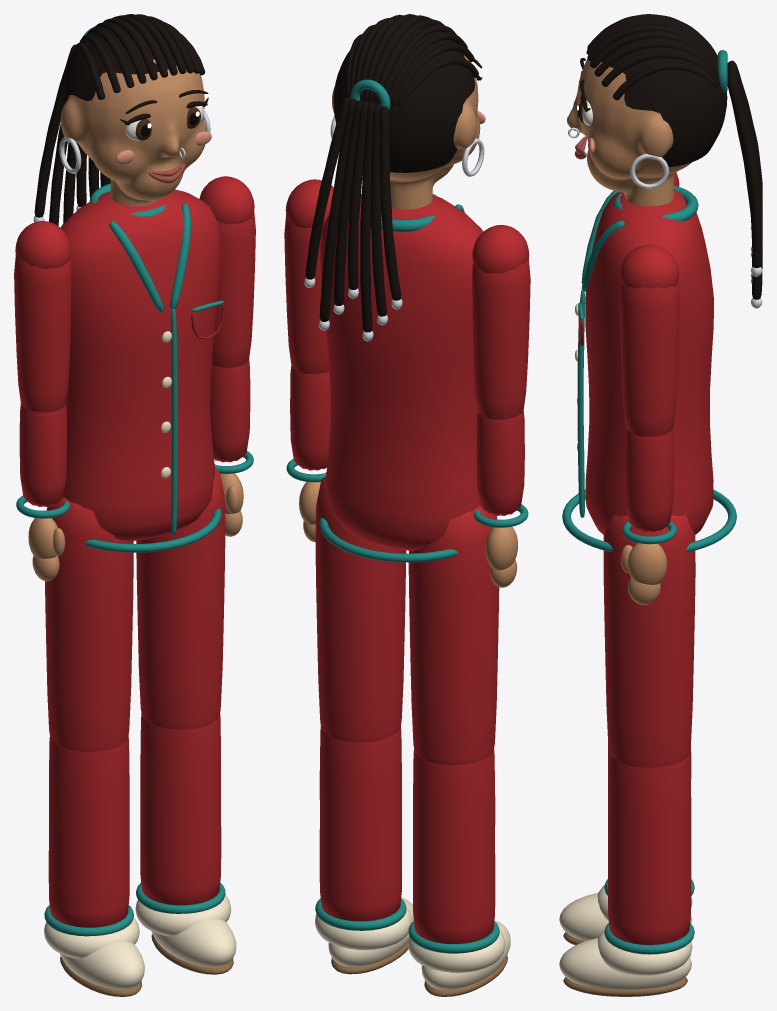
File: mom-B04acgtP.glb
3 views of the same model, side by side, from view 1: azimuth 30°, elevation 25°; view 2: azimuth 150°, elevation 25°; view 3: azimuth 270°, elevation 25° (orthographic).
Visible parts, largest first — view 1: mom_spine_mom_pj_red, mom_leg0_mom_pj_red, mom_leg1_mom_pj_red, mom_knee1_mom_pj_red, mom_knee0_mom_pj_red, mom_head_mom_skin, mom_arm0_mom_pj_red, mom_head_mom_hair, mom_arm1_mom_pj_red, mom_spine_mom_pj_teal, mom_knee1_slipper_cream, mom_knee0_slipper_cream (+11 smaller); view 2: mom_spine_mom_pj_red, mom_leg0_mom_pj_red, mom_leg1_mom_pj_red, mom_knee1_mom_pj_red, mom_knee0_mom_pj_red, mom_head_mom_hair, mom_tail_mom_hair, mom_arm0_mom_pj_red, mom_arm1_mom_pj_red, mom_elbow0_mom_pj_red, mom_elbow1_mom_pj_red, mom_knee0_slipper_cream (+12 smaller); view 3: mom_spine_mom_pj_red, mom_leg1_mom_pj_red, mom_knee1_mom_pj_red, mom_head_mom_hair, mom_arm1_mom_pj_red, mom_head_mom_skin, mom_knee1_slipper_cream, mom_spine_mom_pj_teal, mom_elbow1_mom_pj_red, mom_tail_mom_hair, mom_elbow1_mom_skin, mom_knee0_slipper_cream (+4 smaller).
Boxes of the visible parts, x1=… form: mom_spine_mom_pj_red: x1=60, y1=189, x2=220, y2=541; mom_leg0_mom_pj_red: x1=45, y1=497, x2=133, y2=751; mom_leg1_mom_pj_red: x1=136, y1=464, x2=225, y2=729; mom_knee1_mom_pj_red: x1=140, y1=713, x2=221, y2=905; mom_knee0_mom_pj_red: x1=48, y1=736, x2=129, y2=927; mom_head_mom_skin: x1=60, y1=59, x2=205, y2=206; mom_arm0_mom_pj_red: x1=14, y1=221, x2=71, y2=412; mom_head_mom_hair: x1=62, y1=14, x2=205, y2=144; mom_arm1_mom_pj_red: x1=199, y1=176, x2=255, y2=367; mom_spine_mom_pj_teal: x1=85, y1=183, x2=223, y2=552; mom_knee1_slipper_cream: x1=135, y1=895, x2=236, y2=967; mom_knee0_slipper_cream: x1=44, y1=917, x2=144, y2=989; mom_spine_mom_pj_red: x1=320, y1=194, x2=483, y2=550; mom_leg0_mom_pj_red: x1=408, y1=506, x2=499, y2=765; mom_leg1_mom_pj_red: x1=315, y1=472, x2=406, y2=742; mom_knee1_mom_pj_red: x1=319, y1=726, x2=401, y2=921; mom_knee0_mom_pj_red: x1=413, y1=749, x2=495, y2=943; mom_head_mom_hair: x1=333, y1=14, x2=478, y2=172; mom_tail_mom_hair: x1=305, y1=97, x2=401, y2=332; mom_arm0_mom_pj_red: x1=472, y1=225, x2=530, y2=419; mom_arm1_mom_pj_red: x1=284, y1=179, x2=333, y2=374; mom_elbow0_mom_pj_red: x1=476, y1=410, x2=524, y2=515; mom_elbow1_mom_pj_red: x1=290, y1=365, x2=330, y2=470; mom_knee0_slipper_cream: x1=408, y1=920, x2=510, y2=989; mom_spine_mom_pj_red: x1=585, y1=189, x2=713, y2=534; mom_leg1_mom_pj_red: x1=603, y1=515, x2=695, y2=767; mom_knee1_mom_pj_red: x1=608, y1=751, x2=691, y2=944; mom_head_mom_hair: x1=586, y1=14, x2=727, y2=166; mom_arm1_mom_pj_red: x1=619, y1=244, x2=679, y2=436; mom_head_mom_skin: x1=567, y1=59, x2=691, y2=206; mom_knee1_slipper_cream: x1=559, y1=930, x2=692, y2=989; mom_spine_mom_pj_teal: x1=562, y1=185, x2=736, y2=551; mom_elbow1_mom_pj_red: x1=625, y1=428, x2=673, y2=532; mom_tail_mom_hair: x1=727, y1=60, x2=762, y2=299; mom_elbow1_mom_skin: x1=620, y1=543, x2=667, y2=604; mom_knee0_slipper_cream: x1=559, y1=884, x2=692, y2=940.
Bounding box in the file's own units: 0.5106 × 1.96 × 0.3821.
